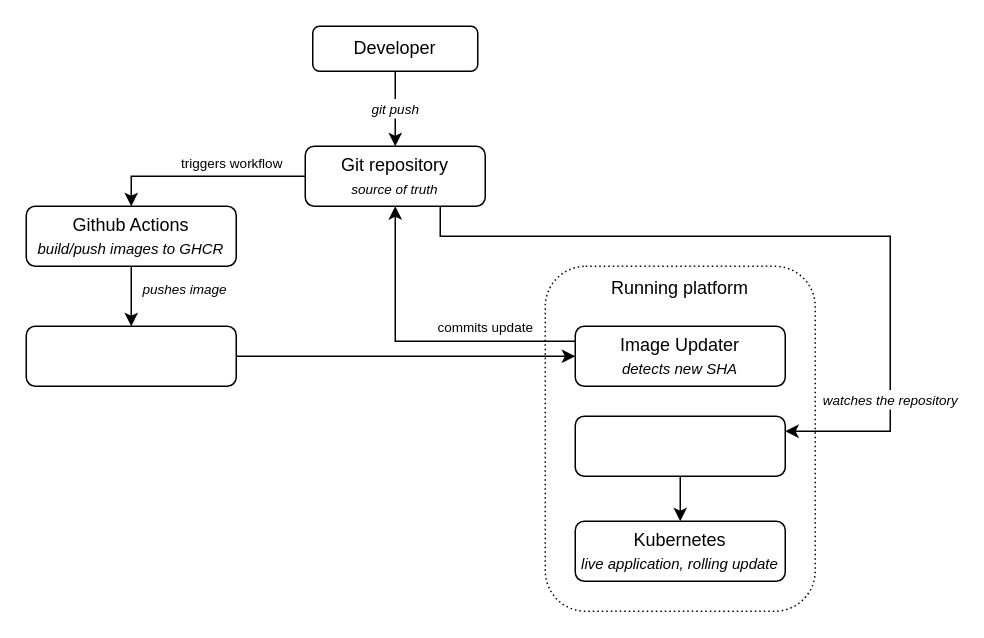
Image size: 984x638. Some labels were removed from this diagram. Here are the shapes that lost their labels. From the top down, the box of each, then its label:
(25, 325, 236, 386): GHCR SHA-tagged images
(574, 415, 785, 476): Argo CD syncs cluster to Git
